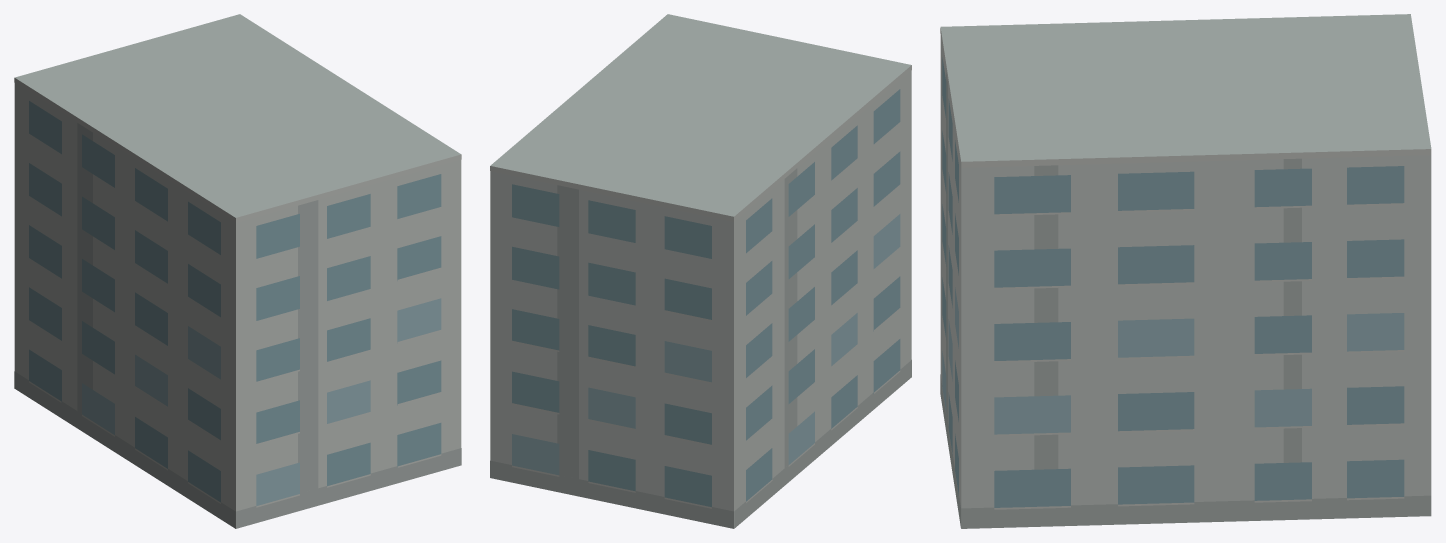
Rendered from survey-upis-32606351.glb.
3 views of the same model, side by side, from view 1: azimuth 30°, elevation 25°; view 2: azimuth 150°, elevation 25°; view 3: azimuth 270°, elevation 25° (orthographic). The views are drawn at different scales.
Parts seen in each view (by area): view 1: survey-upis-32606351.tmp; view 2: survey-upis-32606351.tmp; view 3: survey-upis-32606351.tmp.
Part boxes in pixels (x1,y1,x2,y2): survey-upis-32606351.tmp: (14, 14, 461, 528); survey-upis-32606351.tmp: (490, 14, 911, 528); survey-upis-32606351.tmp: (940, 14, 1431, 528).
Size of the model in its own units: 12.57 by 14.55 by 17.65.
